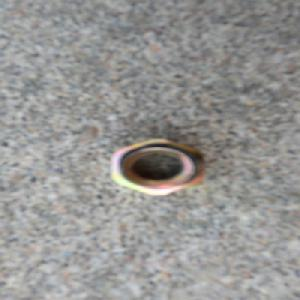Nut: (107, 137, 207, 197)
